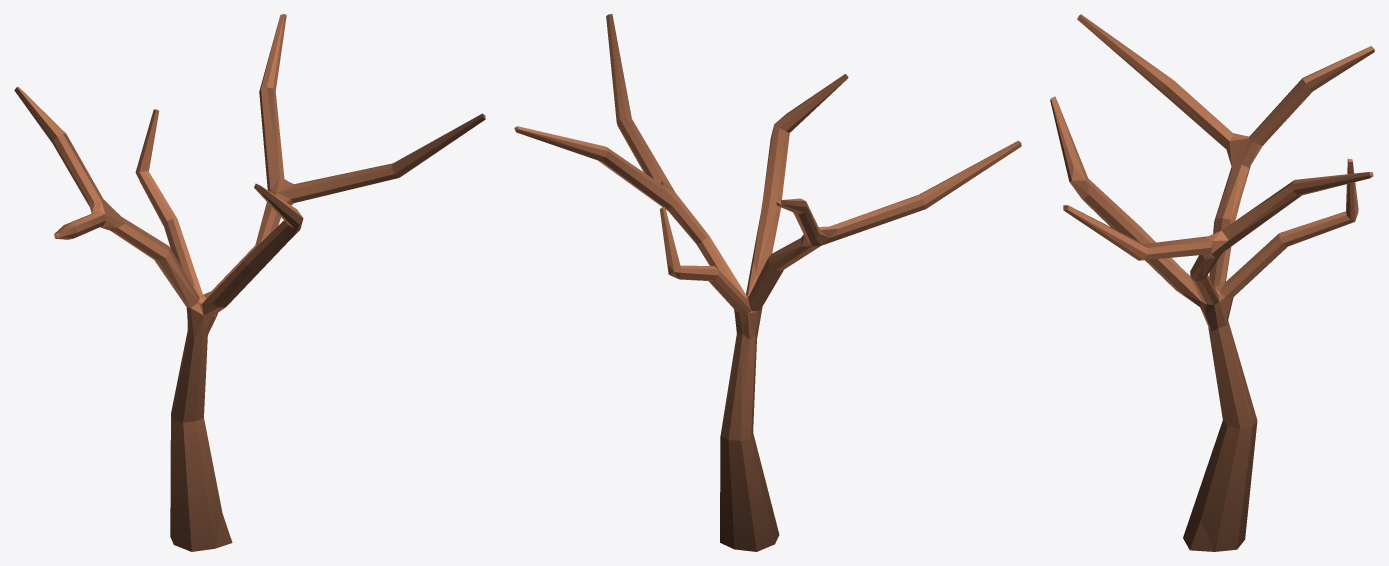
Rendered from Arvore final.fbx.
3 views of the same model, side by side, from view 1: azimuth 30°, elevation 25°; view 2: azimuth 150°, elevation 25°; view 3: azimuth 270°, elevation 25° (orthographic). The views are drawn at different scales.
Visible parts, largest first — view 1: Plane; view 2: Plane; view 3: Plane.
Boxes of the visible parts, <box> form: Plane: <box>14,14,485,551</box>; Plane: <box>514,14,1021,551</box>; Plane: <box>1050,14,1374,551</box>.
Size of the model in its own units: 422 by 410 by 268.
1 material, 1 textured.
